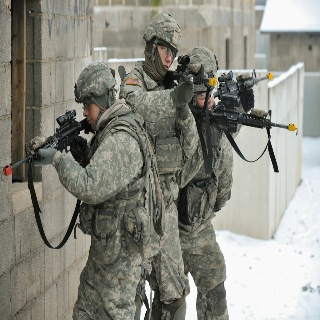rifle: (2, 108, 93, 182), (209, 104, 300, 136), (213, 70, 272, 100)
